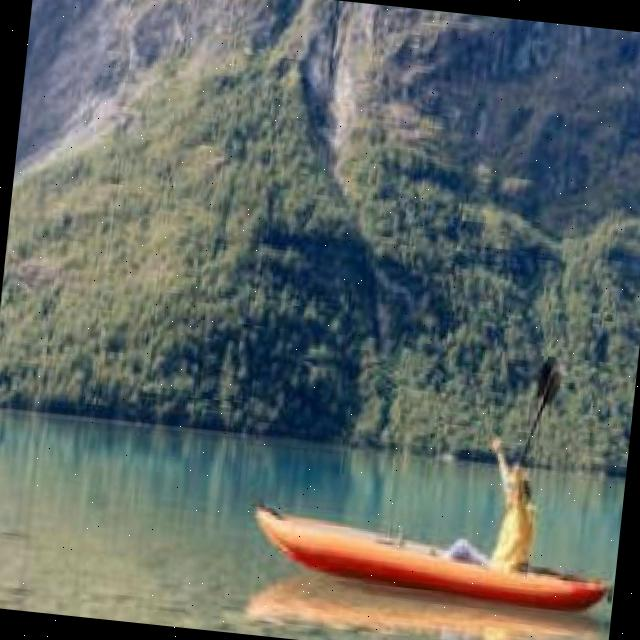kayak: (254, 503, 609, 609)
